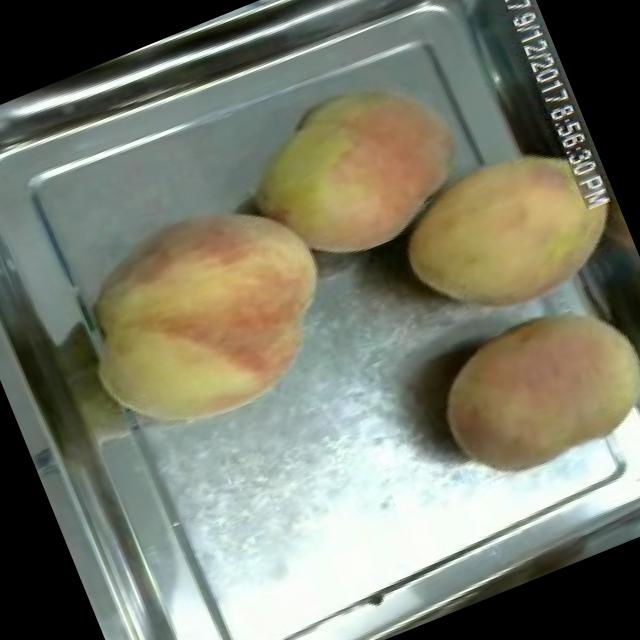Fruit: (47, 168, 366, 463), (218, 47, 494, 294), (372, 115, 640, 355), (406, 268, 640, 512)
